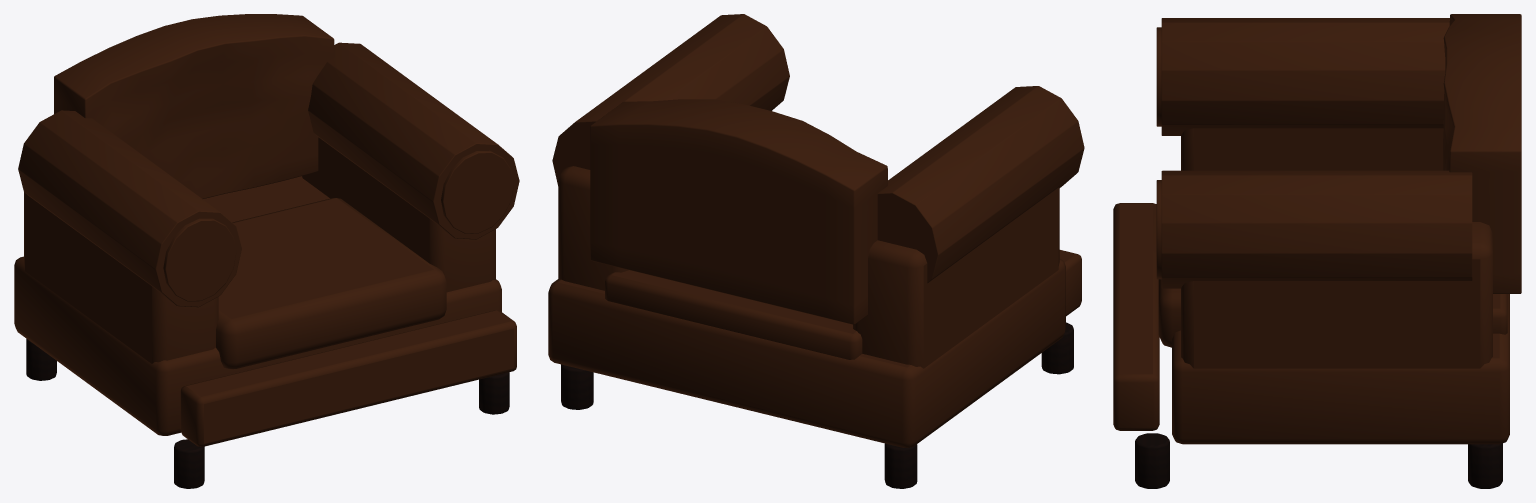
Rendered from chair_luxury_lod2.glb.
3 renders of one model, left to right at view 1: azimuth 30°, elevation 25°; view 2: azimuth 150°, elevation 25°; view 3: azimuth 270°, elevation 25°, orthographic. The views are drawn at different scales.
Parts seen in each view (by area): view 1: LoungeBody_LOD2, LoungeWood_LOD2; view 2: LoungeBody_LOD2, LoungeWood_LOD2; view 3: LoungeBody_LOD2, LoungeWood_LOD2.
Boxes of the visible parts, bbox=[...] form: LoungeBody_LOD2: bbox=[14, 14, 519, 446]; LoungeWood_LOD2: bbox=[26, 339, 509, 488]; LoungeBody_LOD2: bbox=[548, 14, 1084, 447]; LoungeWood_LOD2: bbox=[561, 322, 1073, 488]; LoungeBody_LOD2: bbox=[1113, 14, 1521, 444]; LoungeWood_LOD2: bbox=[1135, 433, 1502, 488].
Bounding box in the file's own units: 1.18 × 0.9432 × 1.02.
3 materials, 1 textured.
